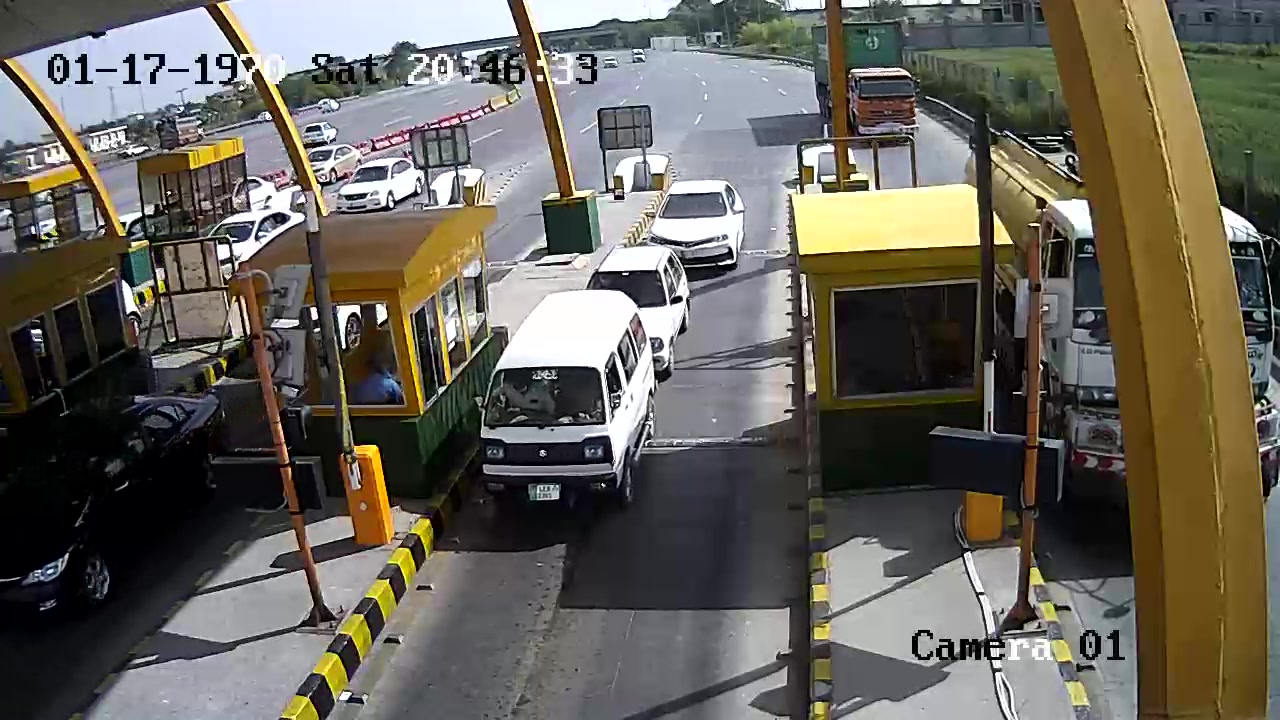F1: (470, 287, 665, 522)
